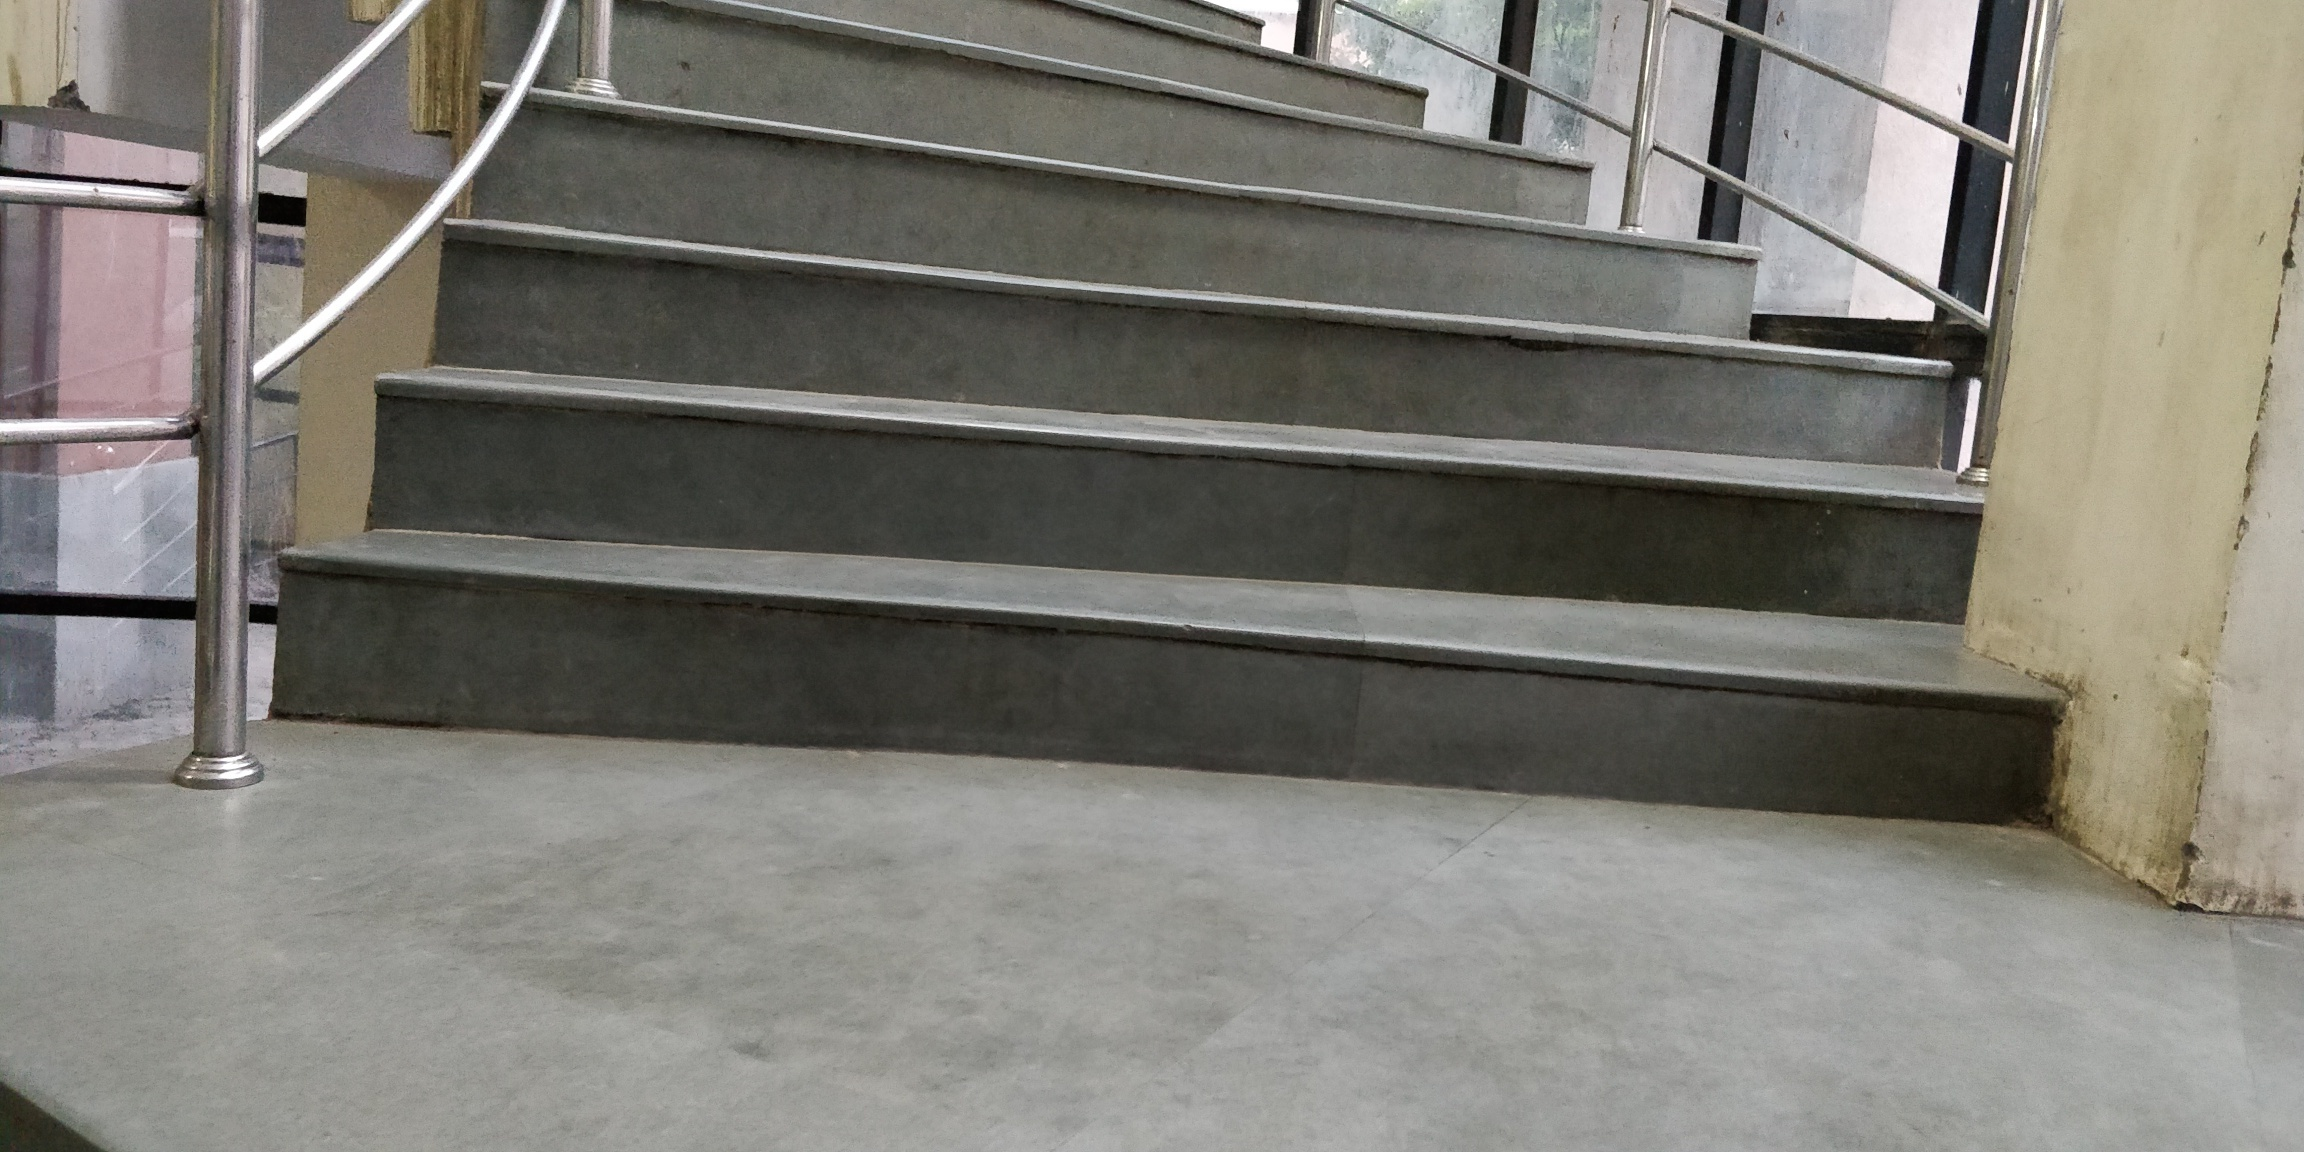stairs_up: (348, 24, 2087, 838)
